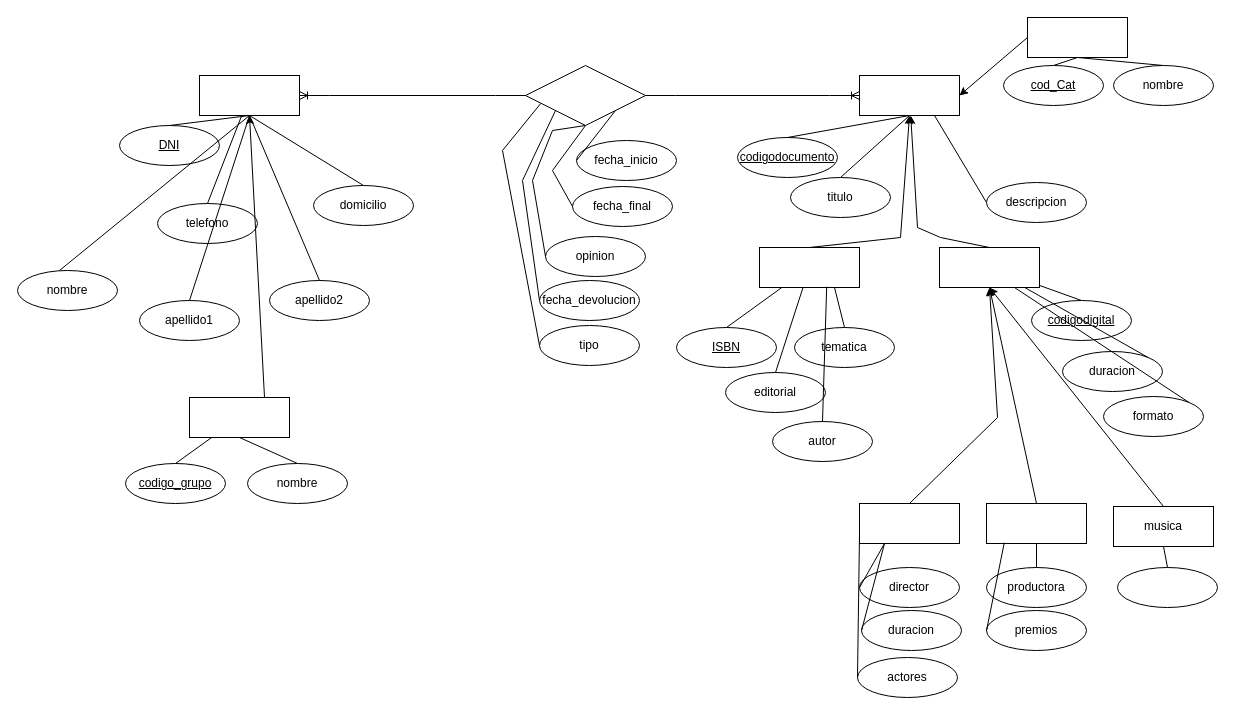
Some shapes in this 1235 by 715 pixel diagram are drawn without their labels. The shapes that lost their labels are listed below. From the top down, each one's box as (x1, y1, x2, y2) in pixels, then its label:
(1026, 16, 1128, 58): Categoria
(198, 74, 300, 116): Usuarios
(524, 64, 646, 126): reserva
(858, 74, 960, 116): Documentos
(758, 246, 860, 288): Libros
(938, 246, 1040, 288): Digital
(188, 396, 290, 438): Grupo
(858, 502, 960, 544): peliculas
(986, 502, 1086, 544): documentales
(1116, 566, 1218, 608): cantantes
